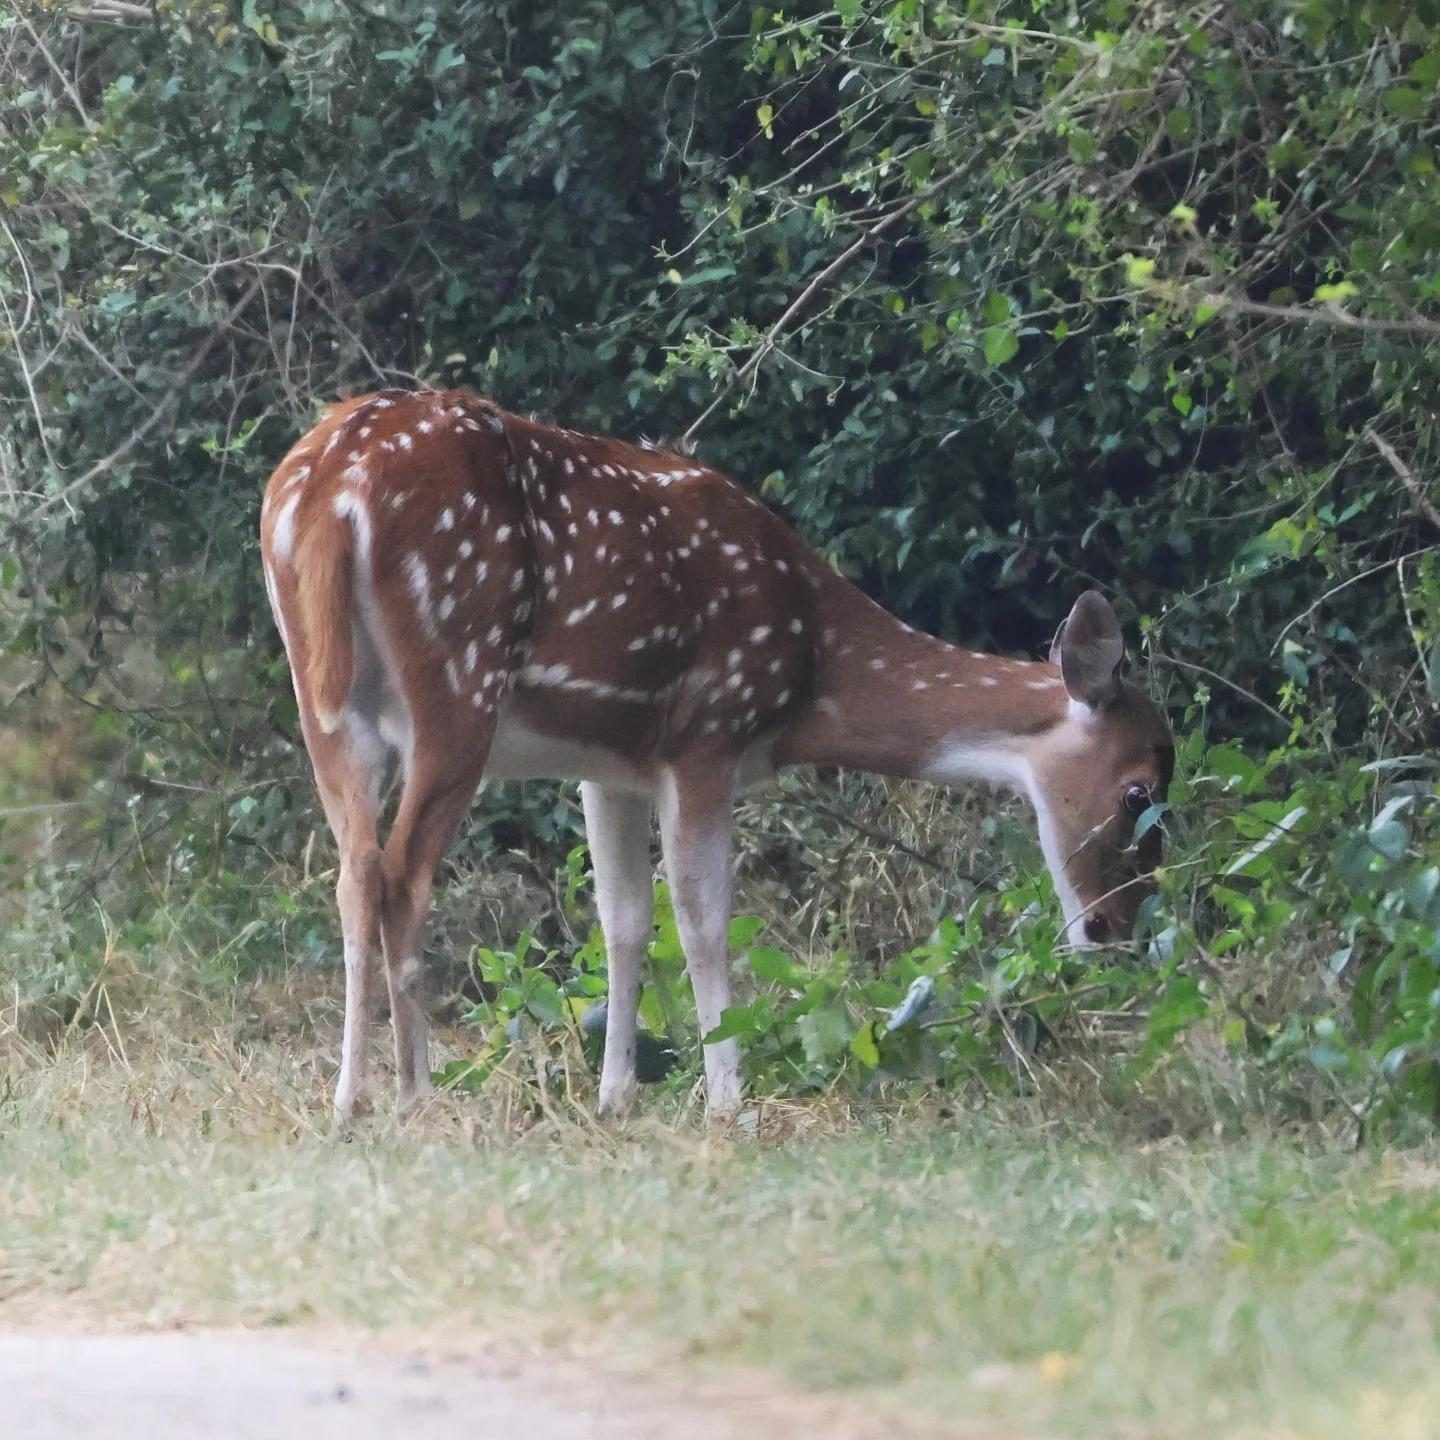Deer: (261, 389, 1174, 1116)
